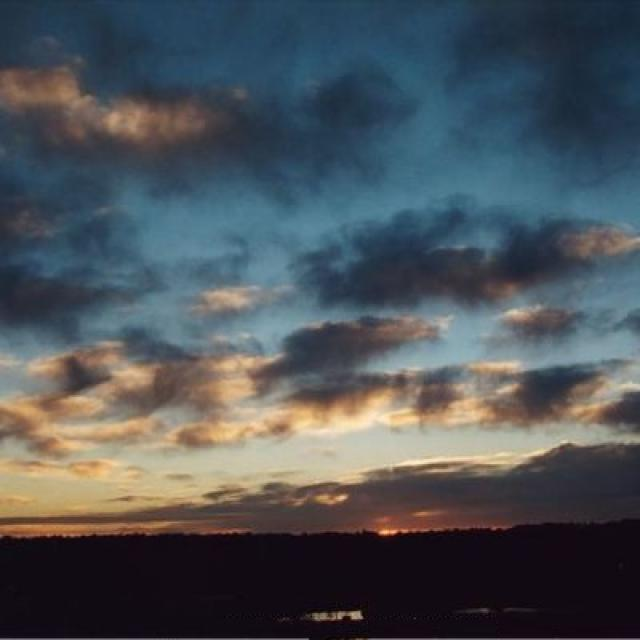As: (23, 207, 640, 450)
